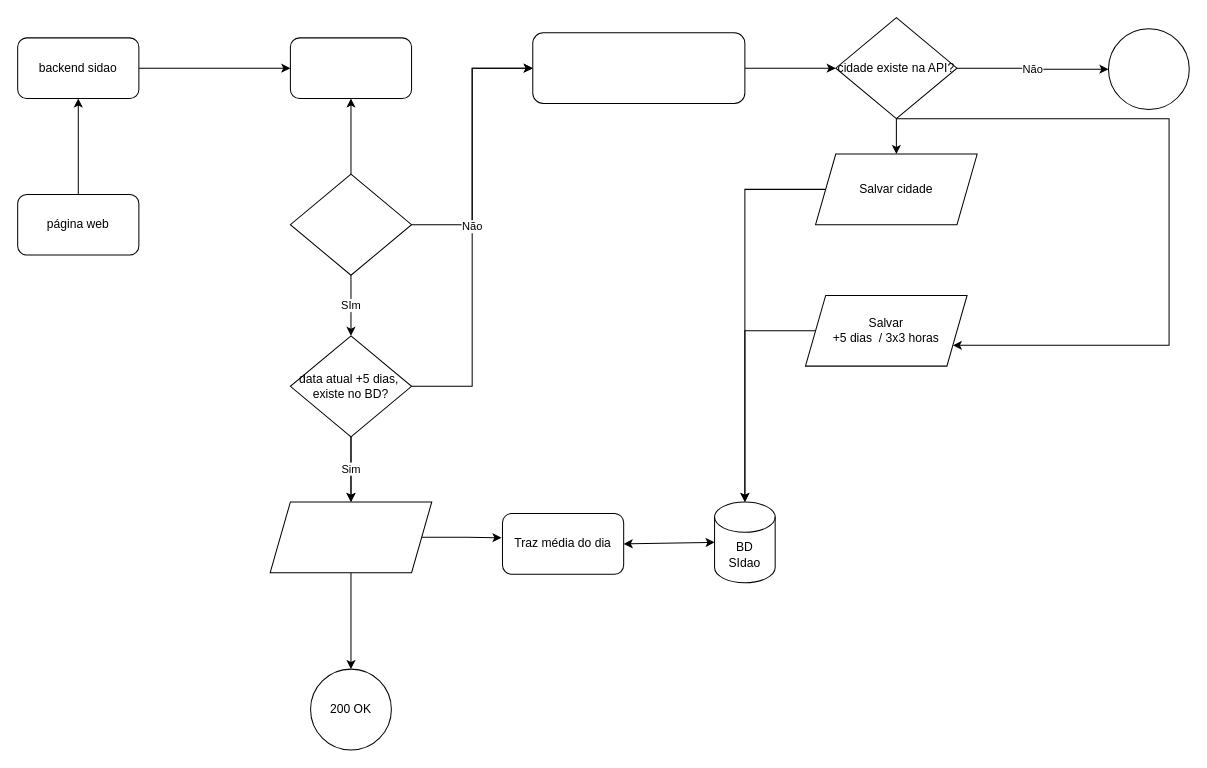
The diagram is 1207 pixels wide and 768 high, and some of its shapes have lost their labels. Each missing label, with the centre of its shape:
"API https://openweathermap.org" goes at (638,68).
"cidade existe no BD?" goes at (350,224).
"Consulta Banco de dados" goes at (350,67).
"erro 400" goes at (1148,69).
"Formatar resposta" goes at (350,537).
